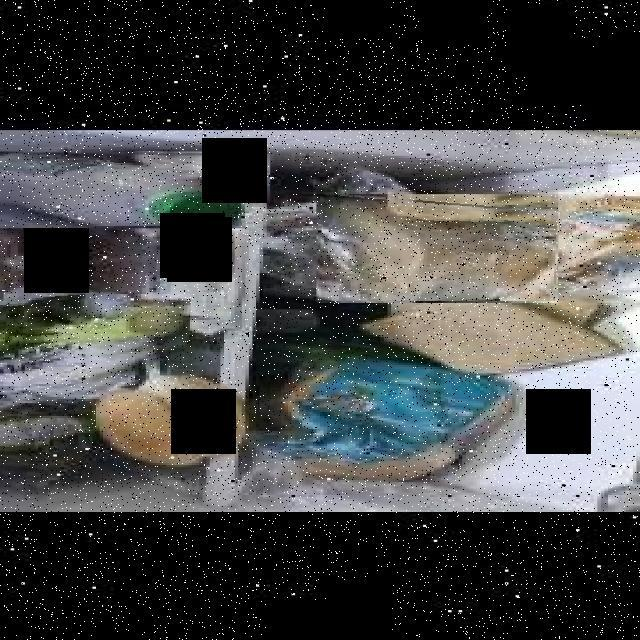bread: (318, 192, 560, 301)
broccoli: (0, 294, 192, 363)
milk: (0, 149, 245, 226)
pineapple: (0, 422, 50, 512)
